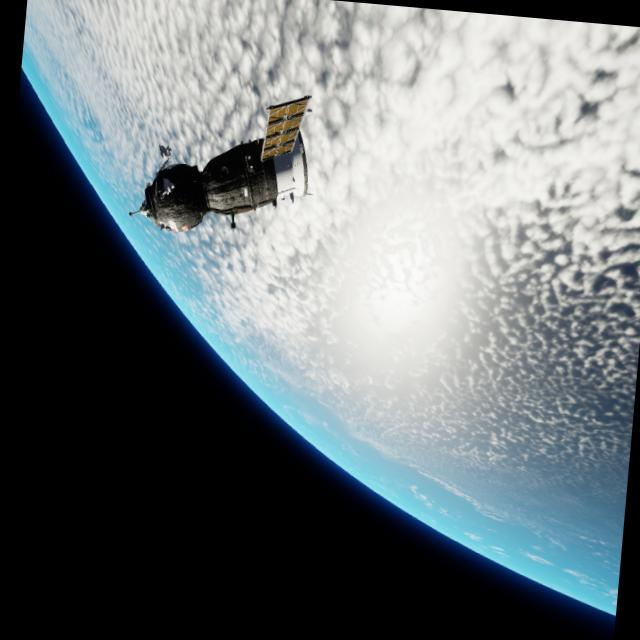Satellites revolving around earth: (126, 76, 322, 249)
